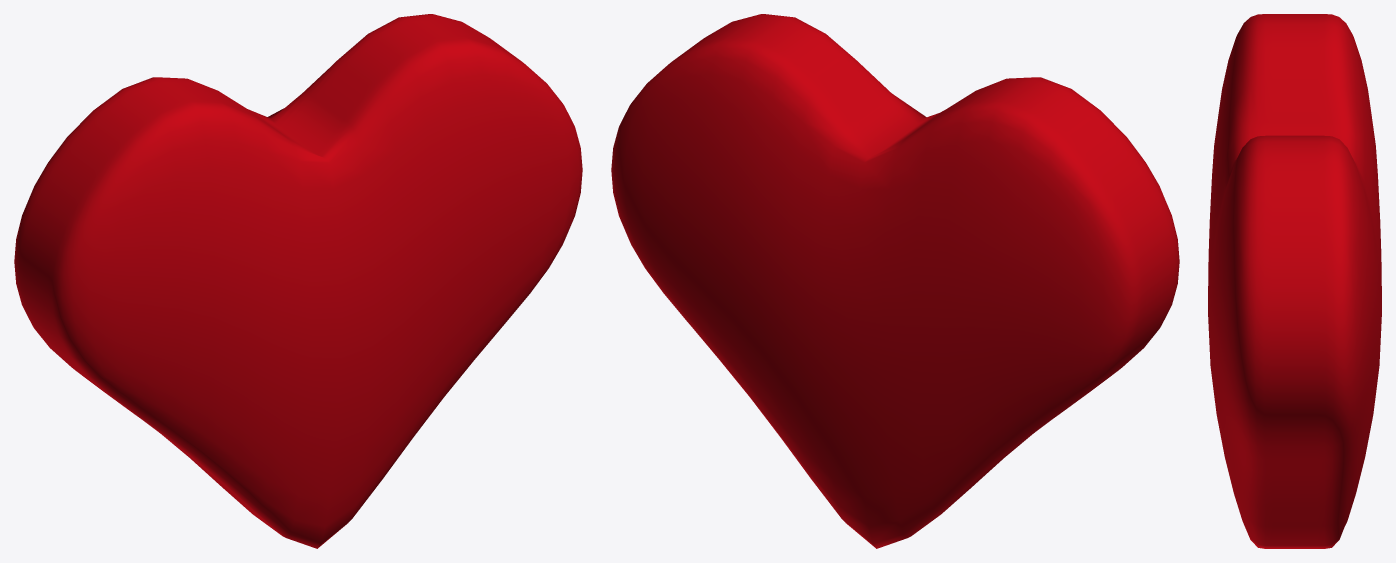
The model's file is heart.glb.
The picture shows the model from 3 angles, left to right: view 1: azimuth 30°, elevation 25°; view 2: azimuth 150°, elevation 25°; view 3: azimuth 270°, elevation 25°; orthographic projection. The views are drawn at different scales.
Parts seen in each view (by area): view 1: Cube; view 2: Cube; view 3: Cube.
Boxes of the visible parts, box(x1,y1,x2,y2) form: Cube: box(14, 14, 582, 548); Cube: box(611, 14, 1179, 548); Cube: box(1208, 14, 1381, 548).
Size of the model in its own units: 2.14 by 1.85 by 0.6252.
